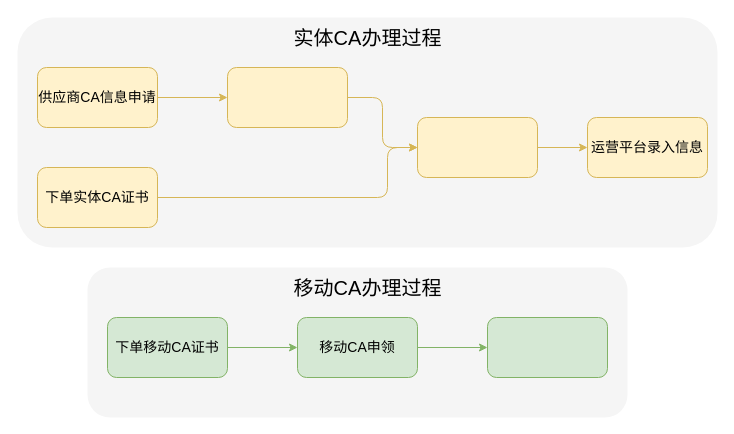
Some shapes in this 734 by 434 pixel diagram are drawn without their labels. Here are the shapes that lost their labels. From the top down, the box of each, then its label:
(226, 66, 348, 128): 运营平台审核
(416, 116, 538, 178): 实体CA申领
(486, 316, 608, 378): 自行录入信息
